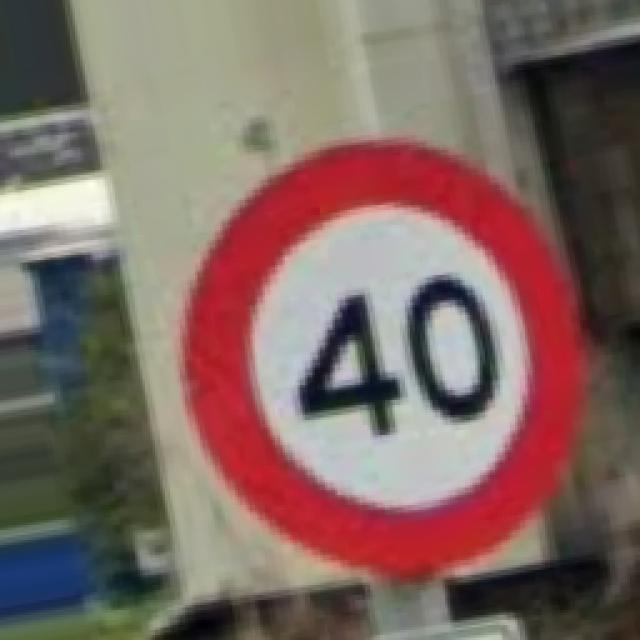Speed Limit -40-: (182, 138, 580, 575)
